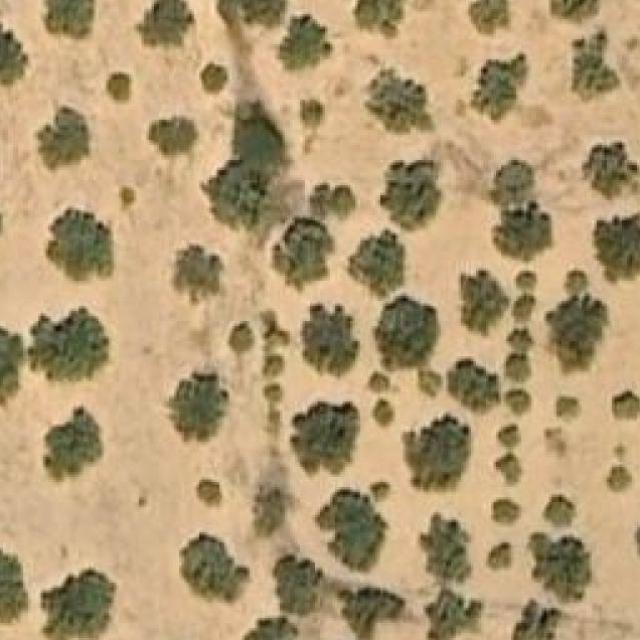Tree: (400, 415, 476, 495), (28, 306, 109, 379), (315, 487, 385, 571), (290, 398, 360, 477), (42, 569, 117, 640), (181, 532, 250, 603), (48, 208, 114, 282), (43, 405, 104, 485), (370, 294, 436, 367), (526, 532, 592, 603), (546, 296, 606, 374), (164, 374, 229, 445), (365, 69, 434, 135), (380, 160, 441, 230), (275, 220, 333, 289), (347, 228, 403, 299), (571, 24, 620, 103), (38, 108, 97, 171), (339, 583, 406, 638), (210, 158, 268, 219), (473, 54, 526, 120), (493, 202, 552, 261), (302, 306, 357, 369), (272, 14, 332, 70), (592, 215, 640, 285), (584, 142, 639, 200), (273, 557, 327, 615), (174, 245, 222, 304), (463, 269, 503, 334), (453, 359, 501, 410), (138, 0, 192, 44), (0, 547, 28, 626), (352, 0, 408, 39), (514, 597, 562, 640), (433, 594, 477, 640), (0, 19, 28, 90), (431, 520, 466, 576), (0, 326, 23, 410), (490, 160, 533, 203), (151, 117, 199, 155), (45, 0, 94, 37), (242, 610, 300, 640), (252, 487, 284, 537), (546, 0, 602, 27), (314, 184, 357, 218), (468, 0, 508, 34), (492, 455, 523, 488), (200, 62, 230, 96), (544, 495, 574, 528), (554, 392, 584, 424), (412, 366, 442, 398), (490, 497, 523, 525), (250, 0, 284, 27), (370, 396, 396, 429), (612, 390, 640, 420), (486, 542, 514, 572), (564, 269, 592, 299), (197, 479, 224, 507), (106, 72, 130, 102), (607, 464, 632, 492), (506, 354, 534, 378), (514, 269, 538, 297), (494, 424, 521, 448), (230, 326, 258, 349), (258, 352, 282, 378), (300, 100, 325, 124), (506, 329, 531, 352), (511, 390, 534, 412), (512, 301, 534, 323), (260, 382, 282, 404), (368, 372, 388, 396), (119, 188, 137, 208)
